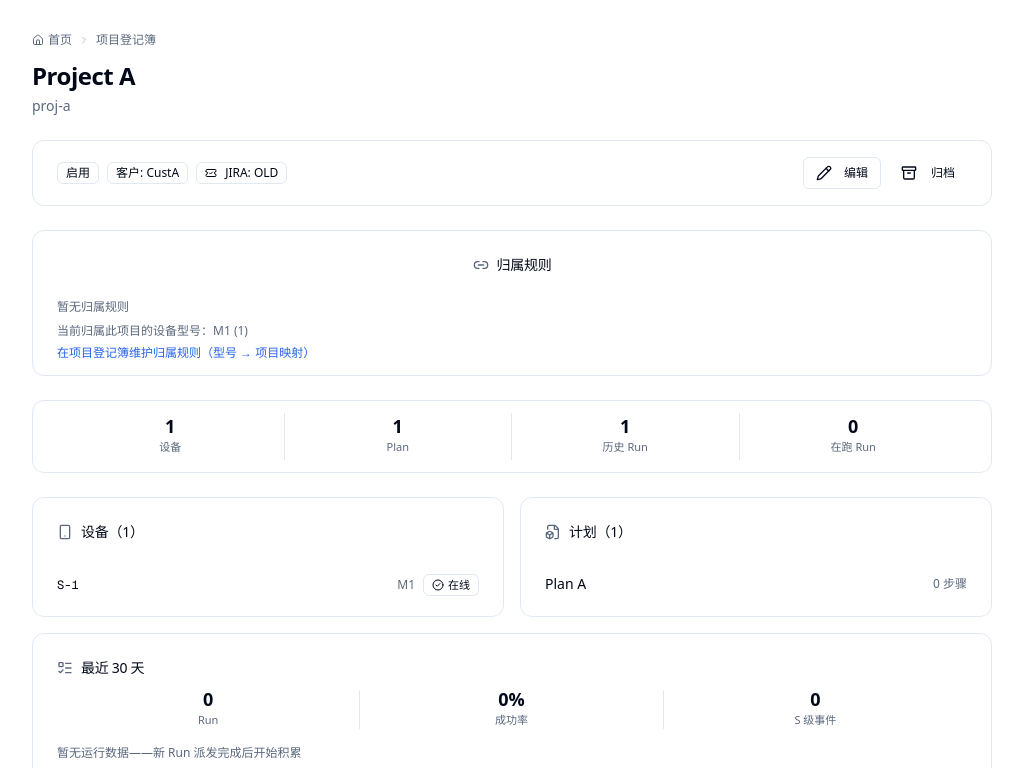
Test: ProjectDetailPage › admin opens prefilled edit dialog and submits updated jira key
Click the button with test id "edit-project-open": (842, 173) [803,157,881,189]
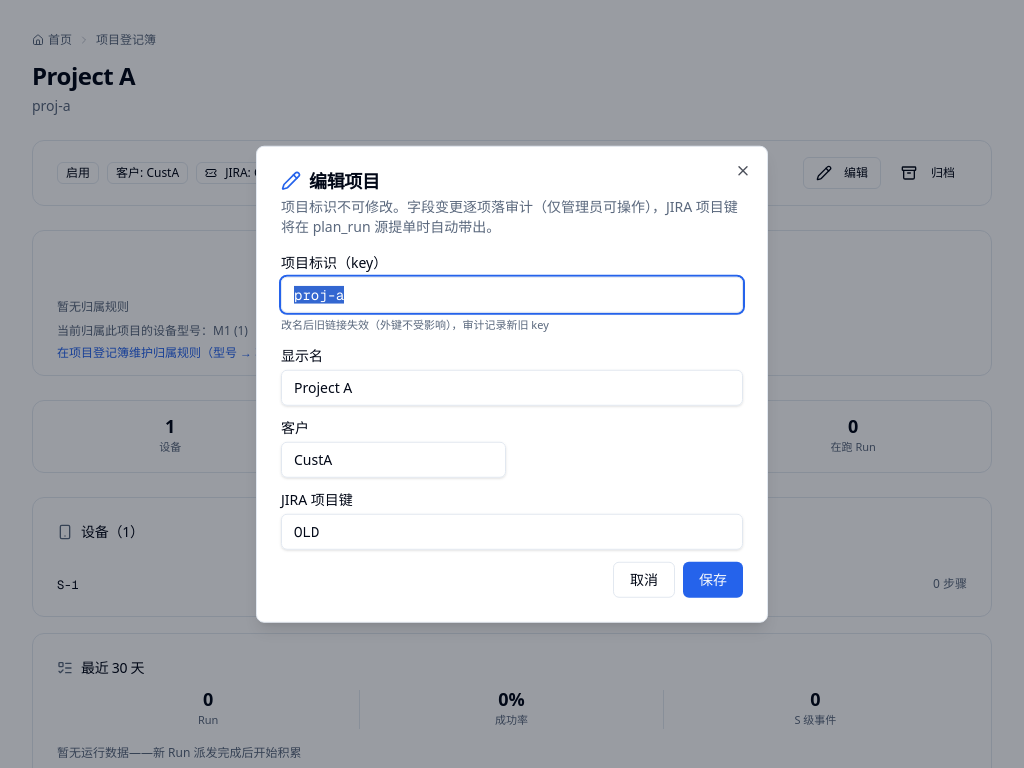
Expected: the field with test id "edit-project-jira" holds "OLD"
Replace the text in the field with test id "edit-project-jira" with "VFFCA": (512, 531) [281,513,743,549]
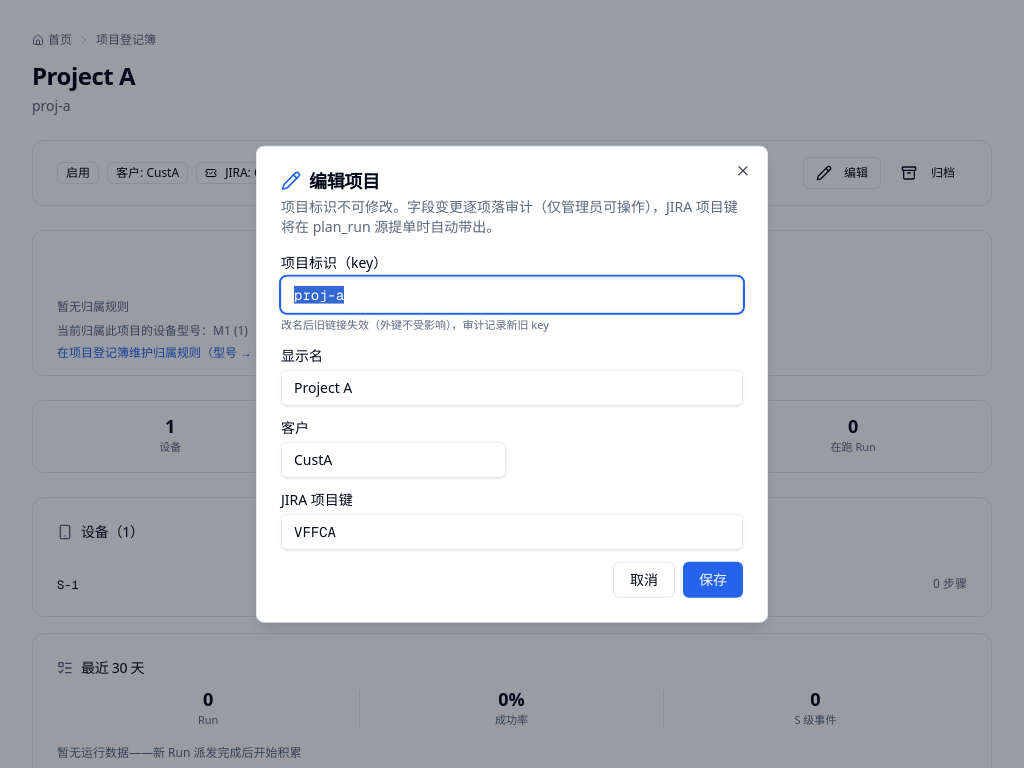
Click the button "保存": (713, 579) [683,561,743,597]
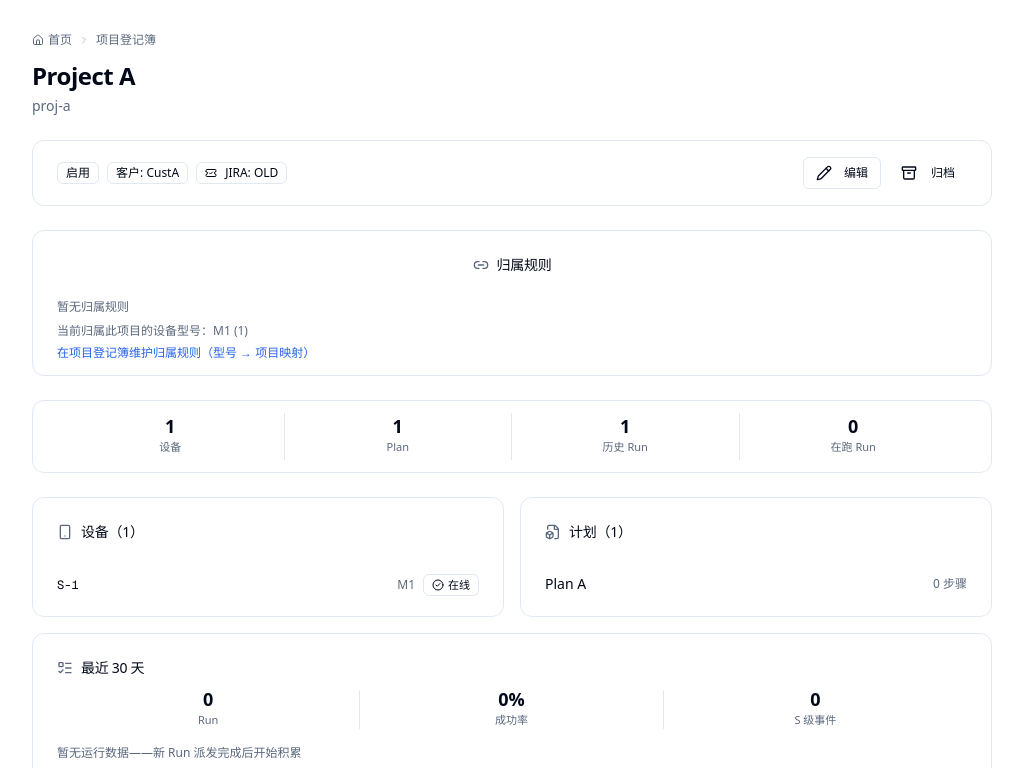
Expected: the label with test id "edit-project-jira" is gone
